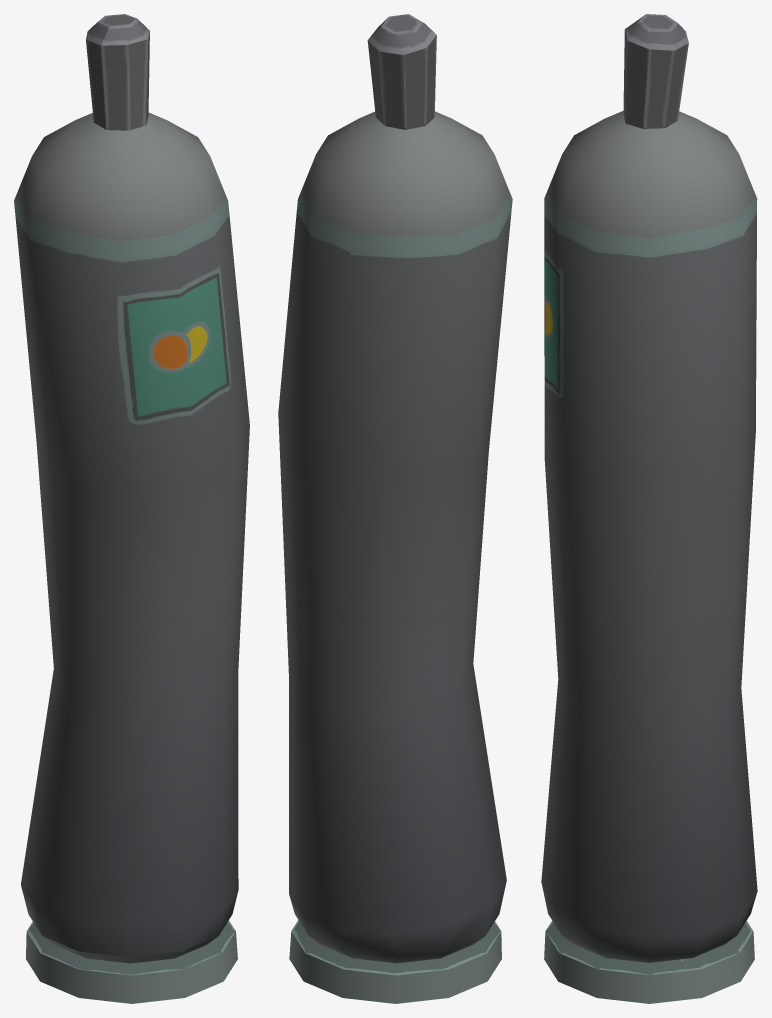
File: Bombona.fbx
3 renders of one model, left to right at view 1: azimuth 30°, elevation 25°; view 2: azimuth 150°, elevation 25°; view 3: azimuth 270°, elevation 25°, orthographic.
Visible parts, largest first — view 1: bombona_gas_001PTRSZ; view 2: bombona_gas_001PTRSZ; view 3: bombona_gas_001PTRSZ.
Part boxes in pixels (left/top/right/bottom): bombona_gas_001PTRSZ: left=14, top=14, right=249, bottom=1003; bombona_gas_001PTRSZ: left=278, top=14, right=512, bottom=1003; bombona_gas_001PTRSZ: left=541, top=14, right=757, bottom=1003.
Bounding box in the file's own units: 0.5015 × 2.18 × 0.4582.
